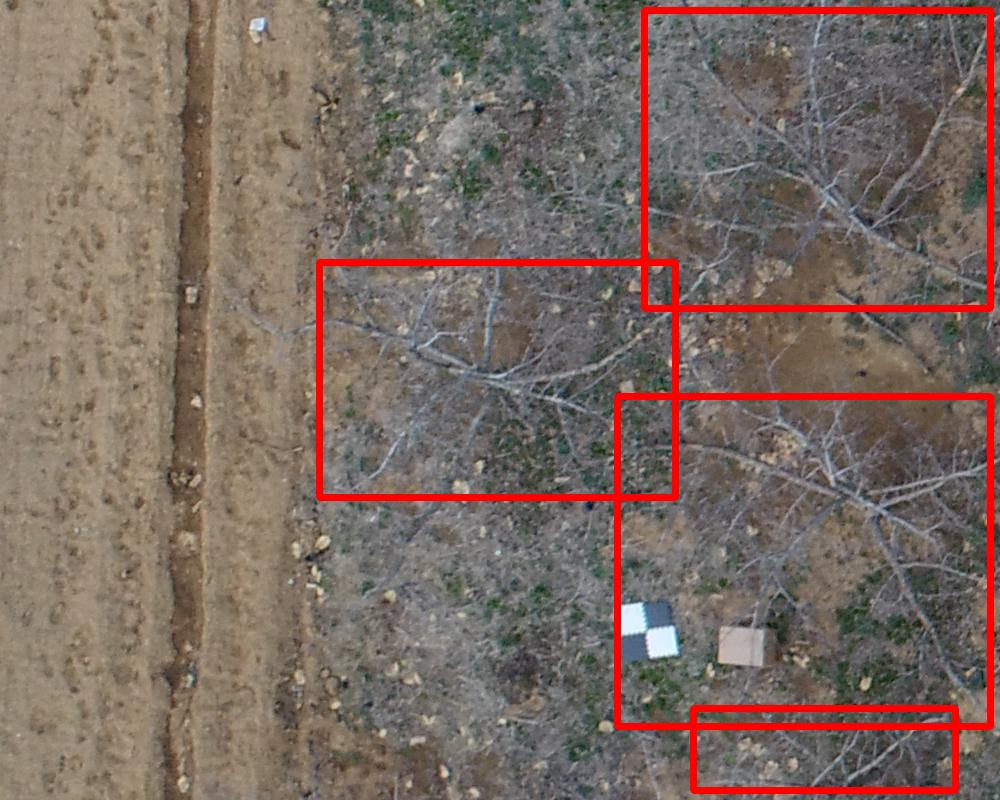apple: (617, 396, 990, 726), (644, 10, 990, 308), (319, 262, 675, 497), (693, 708, 955, 790)
